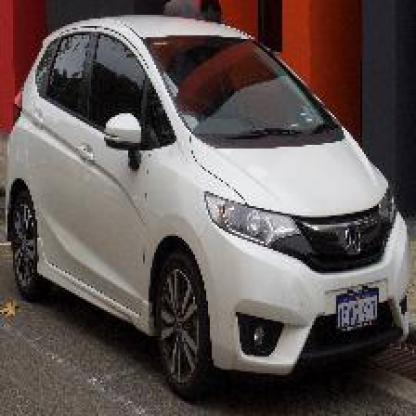not_emergency: (15, 22, 412, 377)
